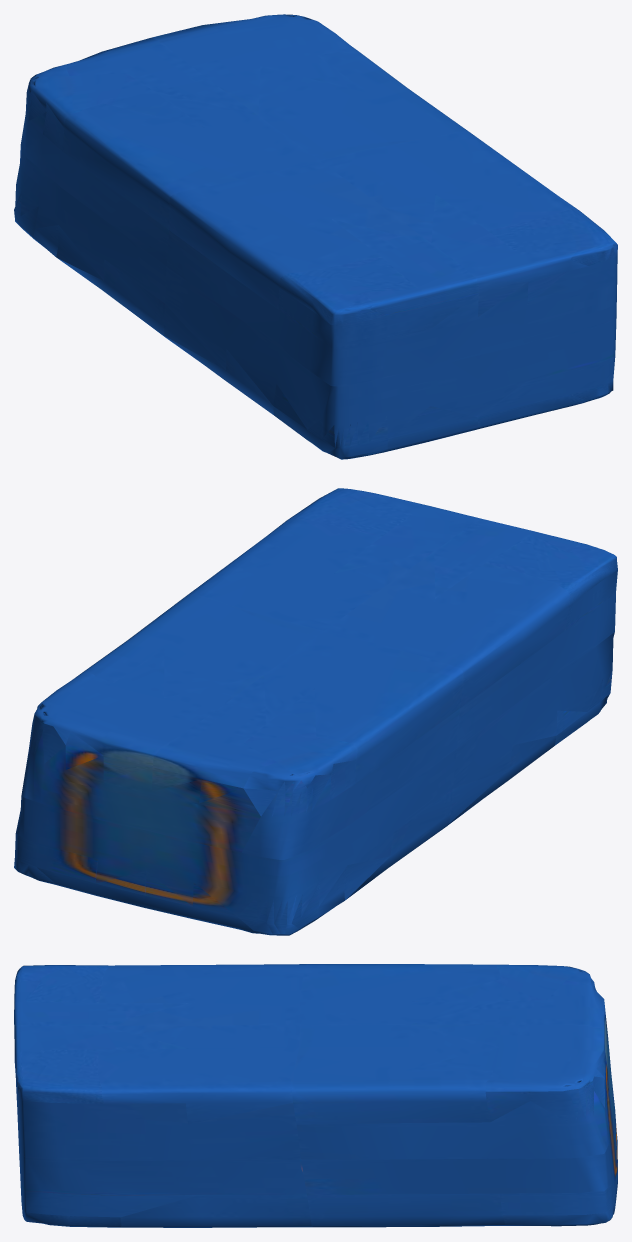
Rendered from block_blue_01.glb.
The picture shows the model from 3 angles, top to bottom: view 1: azimuth 30°, elevation 25°; view 2: azimuth 150°, elevation 25°; view 3: azimuth 270°, elevation 25°; orthographic projection. The views are drawn at different scales.
Visible parts, largest first — view 1: blue_block_01__export_tmp; view 2: blue_block_01__export_tmp; view 3: blue_block_01__export_tmp.
Part boxes in pixels (x1=…): blue_block_01__export_tmp: x1=14, y1=14, x2=617, y2=459; blue_block_01__export_tmp: x1=14, y1=488, x2=617, y2=935; blue_block_01__export_tmp: x1=14, y1=964, x2=617, y2=1227.
Bounding box in the file's own units: 1.35 × 0.675 × 2.64.
1 material, 1 textured.
